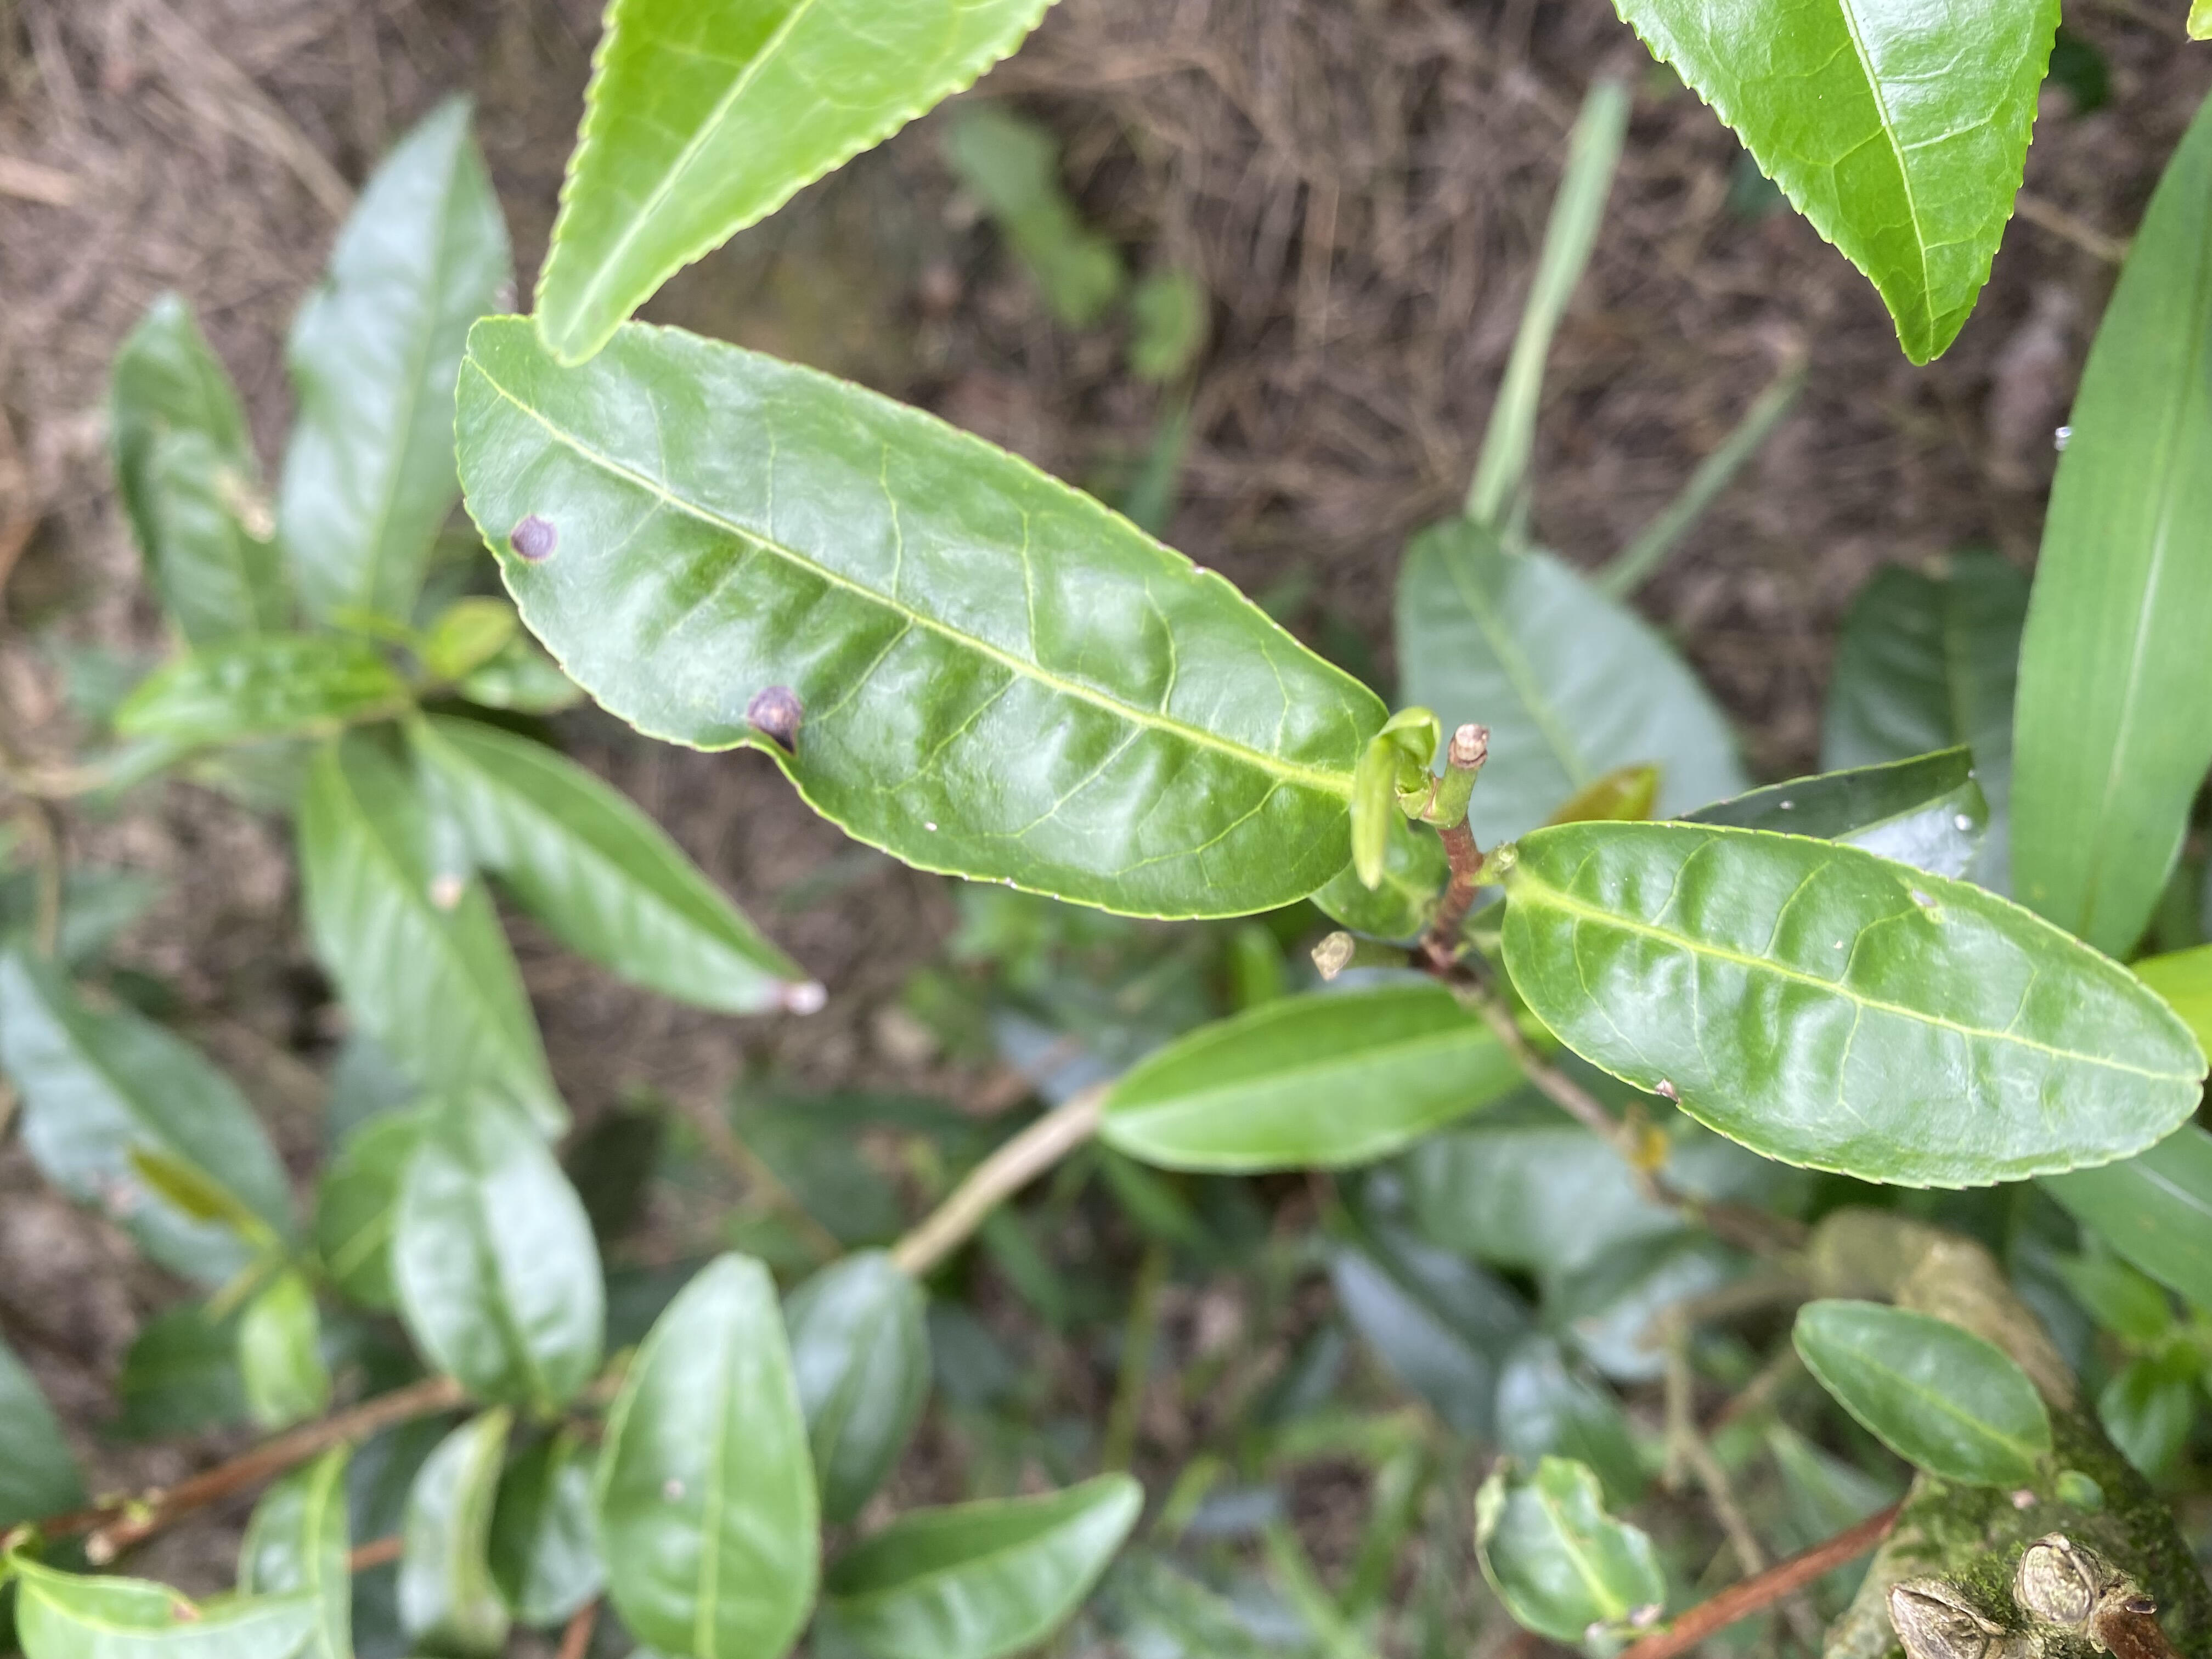healthy: (531, 3, 1055, 366), (1602, 2, 2069, 371)
tanju_low: (449, 312, 1399, 924), (1494, 821, 2207, 1188)
